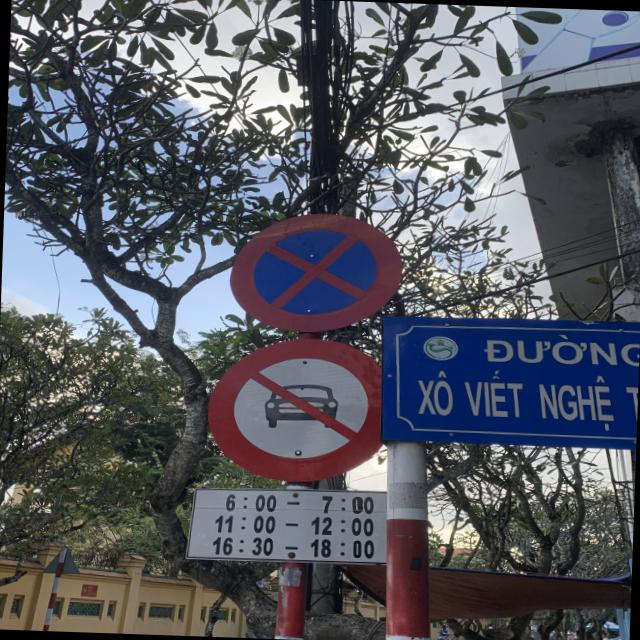Cam_Dung_Va_Dau_Xe: (225, 209, 401, 333)
Cam_O_To: (207, 338, 386, 483)
